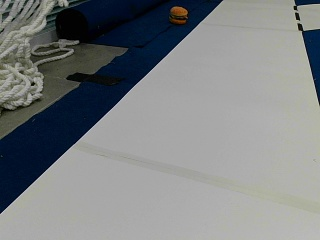burger: (168, 5, 188, 24)
